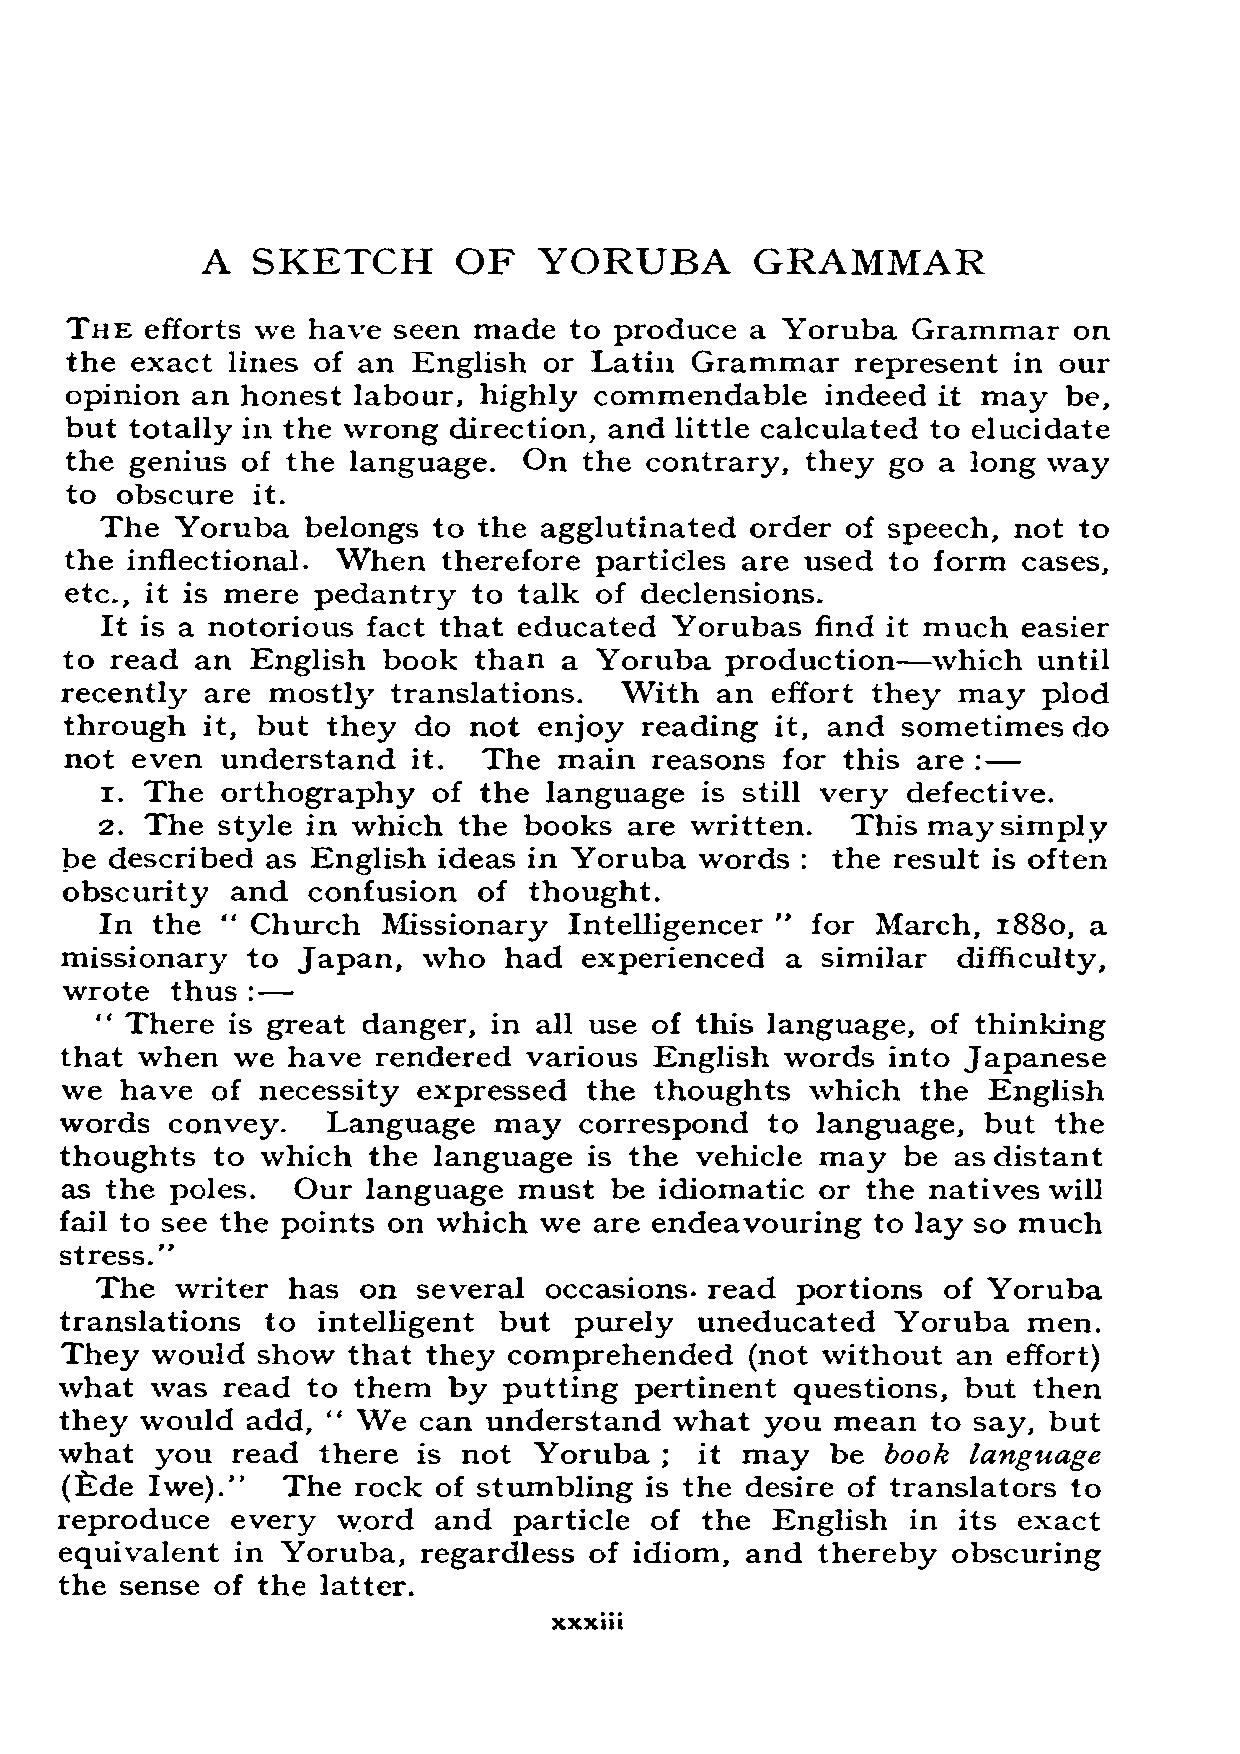chapter: (199, 246, 986, 278)
content: (58, 311, 1113, 1600)
content_pagenumber: (544, 1609, 628, 1633)
